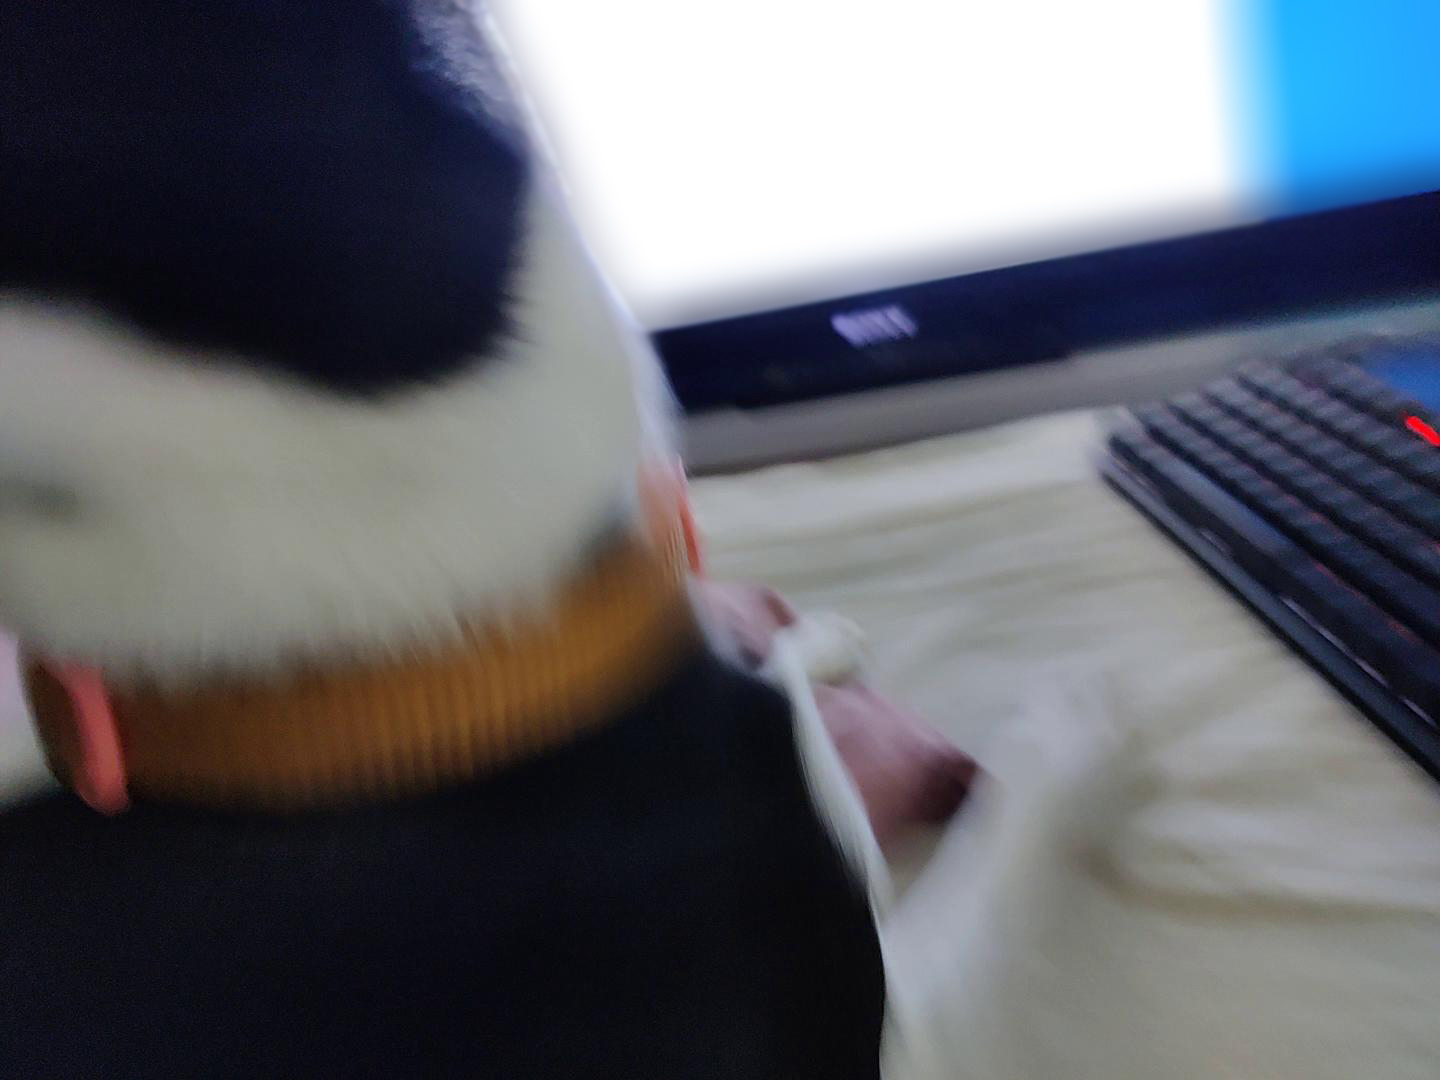Dog: (0, 0, 918, 1080)
